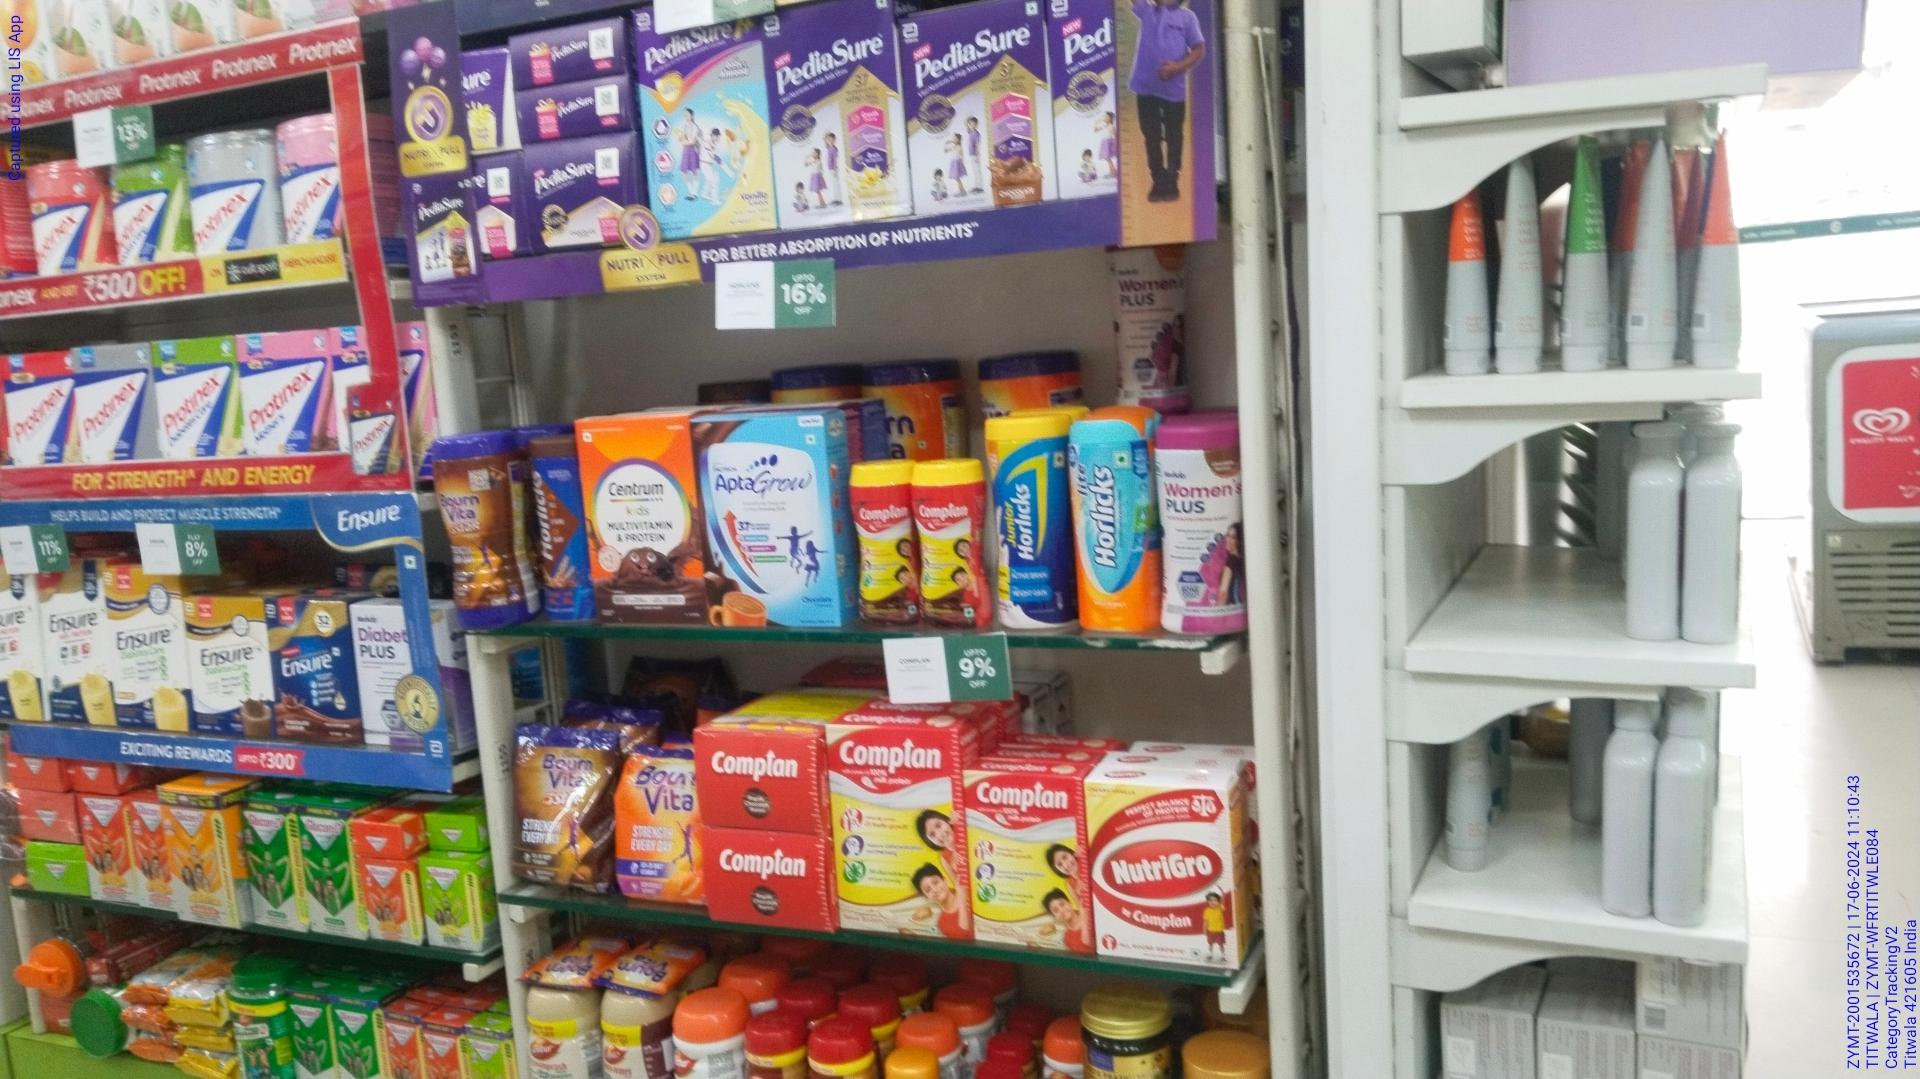BOURN_VITA_FIVE_STAR_MAGIC_500_G_JAR: (438, 431, 516, 632)
BOURN_VITA_FIVE_STAR_MAGIC_500_G_POUCH: (513, 724, 607, 889)
COMPLAN_CHOCOLATE_200_GMS_JAR: (915, 462, 980, 628), (852, 462, 913, 627)
COMPLAN_KESAR_BADAM_200_GMS_PACK: (969, 774, 1088, 948)
COMPLAN_KESAR_BADAM_500_GMS_PACK: (828, 725, 960, 931)
HORLICKS_JUNIOR_VANILLA_500_GM_JAR: (989, 416, 1065, 632)
HORLICKS_LITE_REGULAR_MALT_500_GM_JAR: (1069, 412, 1160, 640)
HORLICK_CHOCOLATE_500_G_JAR: (530, 433, 588, 627)
PEDIASURE_CHOCOLATE_500_G_PACK: (901, 1, 1050, 203)
PEDIASURE_VANILLA_500_G_PACK: (775, 7, 898, 223)
PROTINEX_ORIGINAL_400_G_JAR: (194, 131, 276, 256)
PROTINEX_VANILLA_400_G_JAR: (28, 161, 104, 273)
